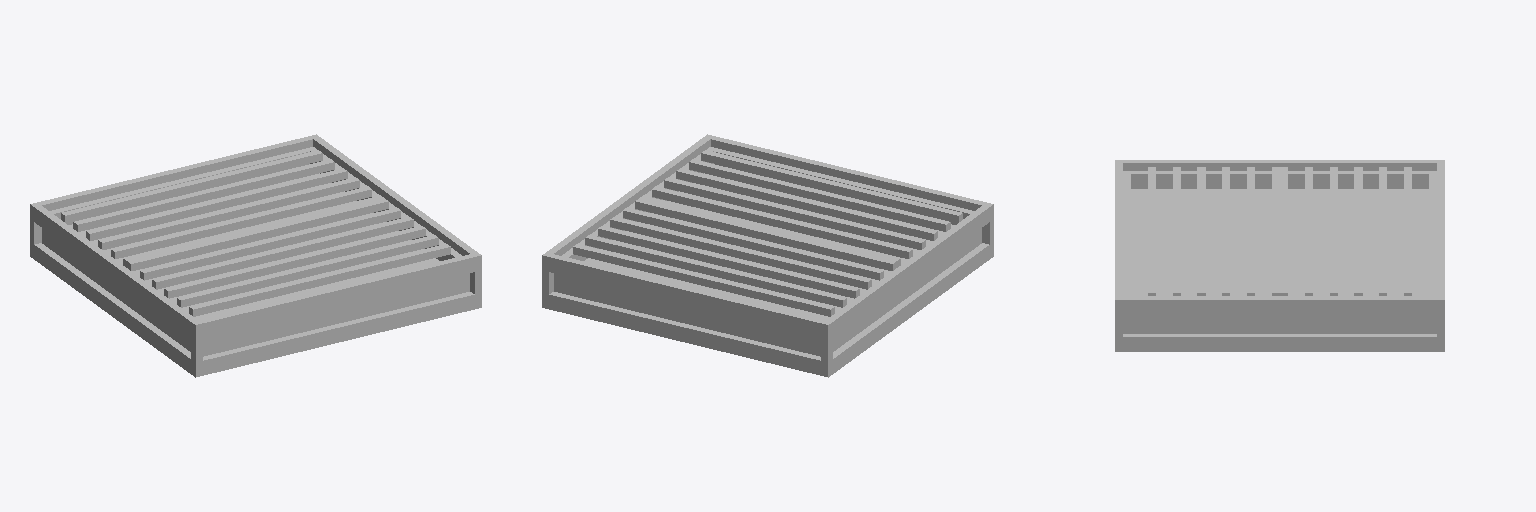
Rendered from closed floor.obj.
3 views of the same model, side by side, from view 1: azimuth 30°, elevation 25°; view 2: azimuth 150°, elevation 25°; view 3: azimuth 270°, elevation 25° (orthographic).
Visible parts, largest first — view 1: object 1; view 2: object 1; view 3: object 1.
Boxes of the visible parts, box(x1,y1,x2,y2) form: object 1: box(30, 134, 481, 377); object 1: box(542, 134, 993, 377); object 1: box(1115, 160, 1444, 351).
Size of the model in its own units: 4 by 0.7 by 4.